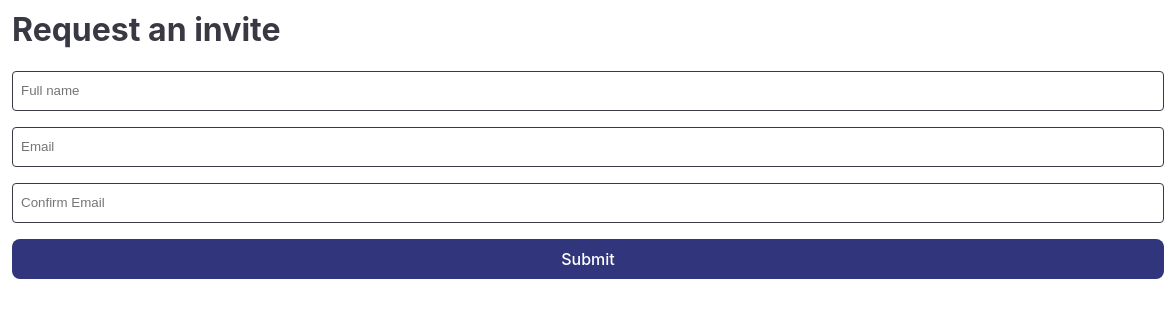
Scenario: InviteRequestModal › displays server error message if any
Type "baptiste" into the field with test id "full-name-input" at [588, 91], box x1=12 y1=71 x2=1164 y2=111
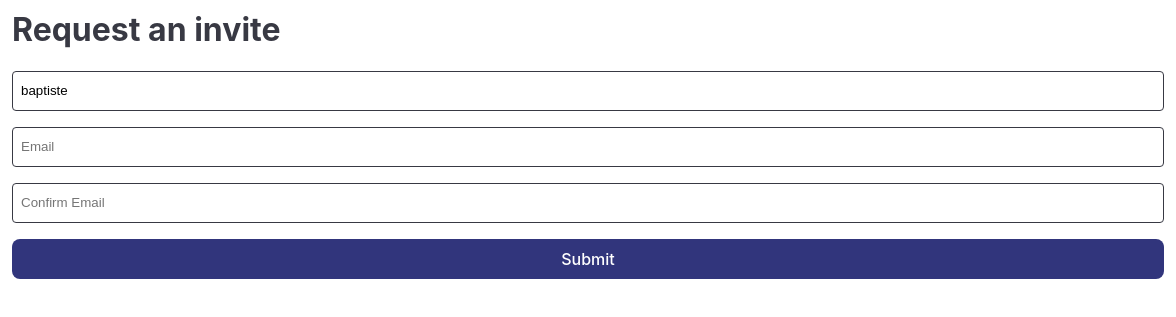
Type "bvi@test.com" into the field with test id "email-input" at [588, 147], box x1=12 y1=127 x2=1164 y2=167
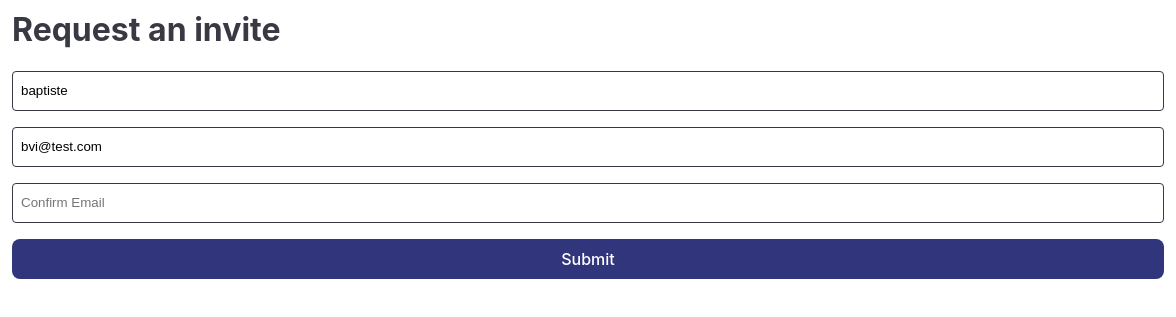
Type "bvi@test.com" into the field with test id "email-confirmation-input" at [588, 203], box x1=12 y1=183 x2=1164 y2=223
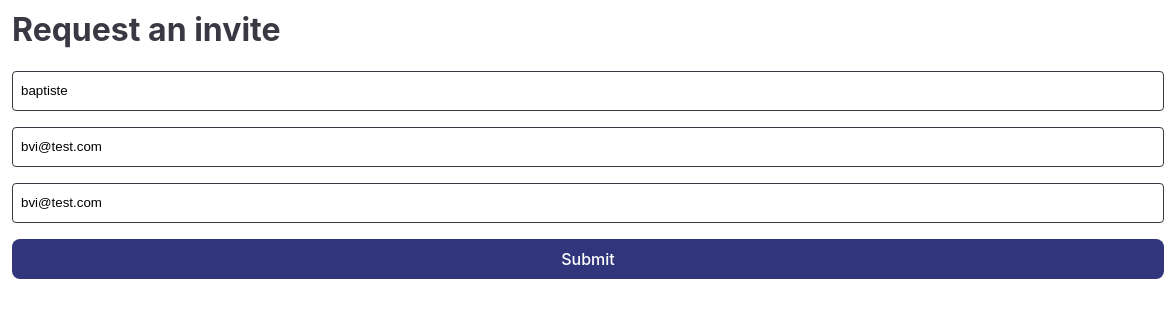
Click the button with test id "submit-request-button" at [588, 259], box x1=12 y1=239 x2=1164 y2=279
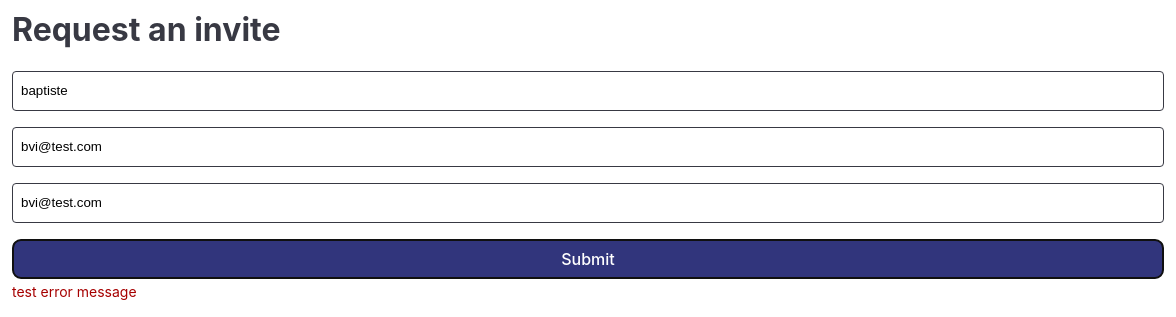
Expected: the text "test error message" is shown, x1=12 y1=283 x2=137 y2=300
